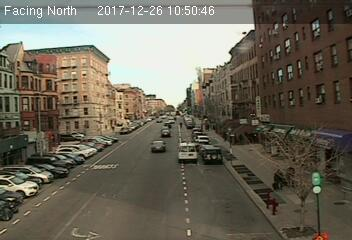car: (202, 145, 223, 164), (150, 139, 165, 152)
truck: (177, 140, 197, 165)
